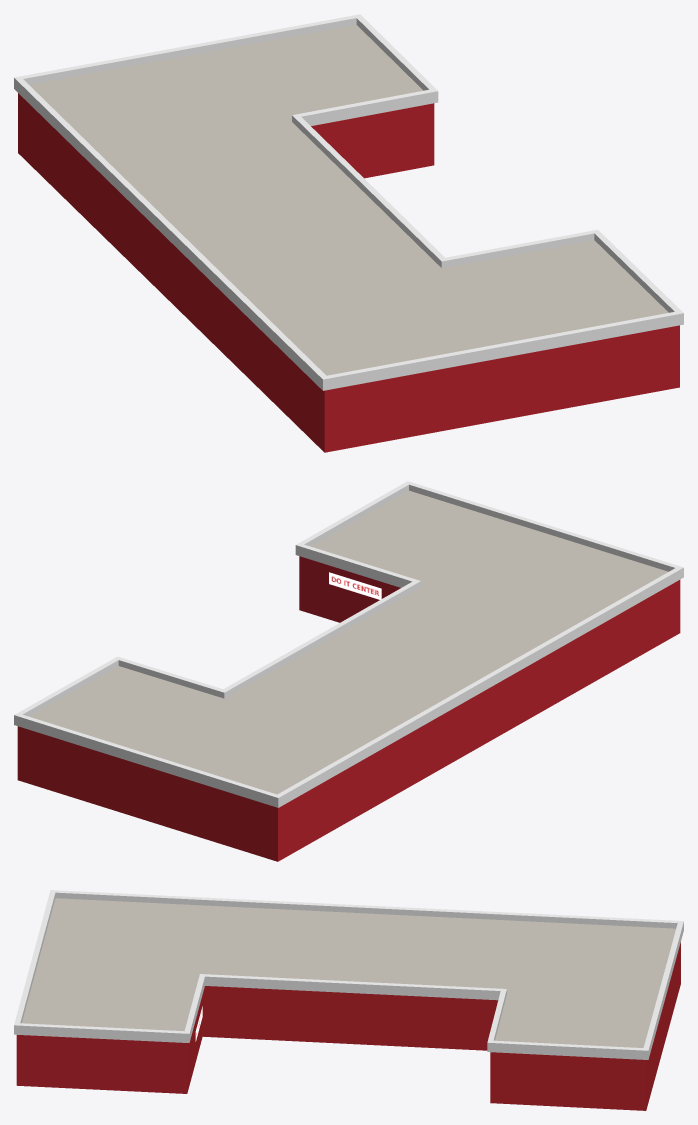
The model's file is doit_sav.glb.
3 views of the same model, one above another, from view 1: azimuth 30°, elevation 25°; view 2: azimuth 150°, elevation 25°; view 3: azimuth 270°, elevation 25° (orthographic). The views are drawn at different scales.
Visible parts, largest first — view 1: doit_sav_lod0; view 2: doit_sav_lod0; view 3: doit_sav_lod0.
Boxes of the visible parts, x1,y1,x2,y2 form: doit_sav_lod0: (14, 14, 683, 452); doit_sav_lod0: (14, 481, 683, 861); doit_sav_lod0: (14, 890, 683, 1110).
Size of what is drawn, in the model's own units: 37.05 by 6.6 by 65.25.
4 materials, 2 textured.
